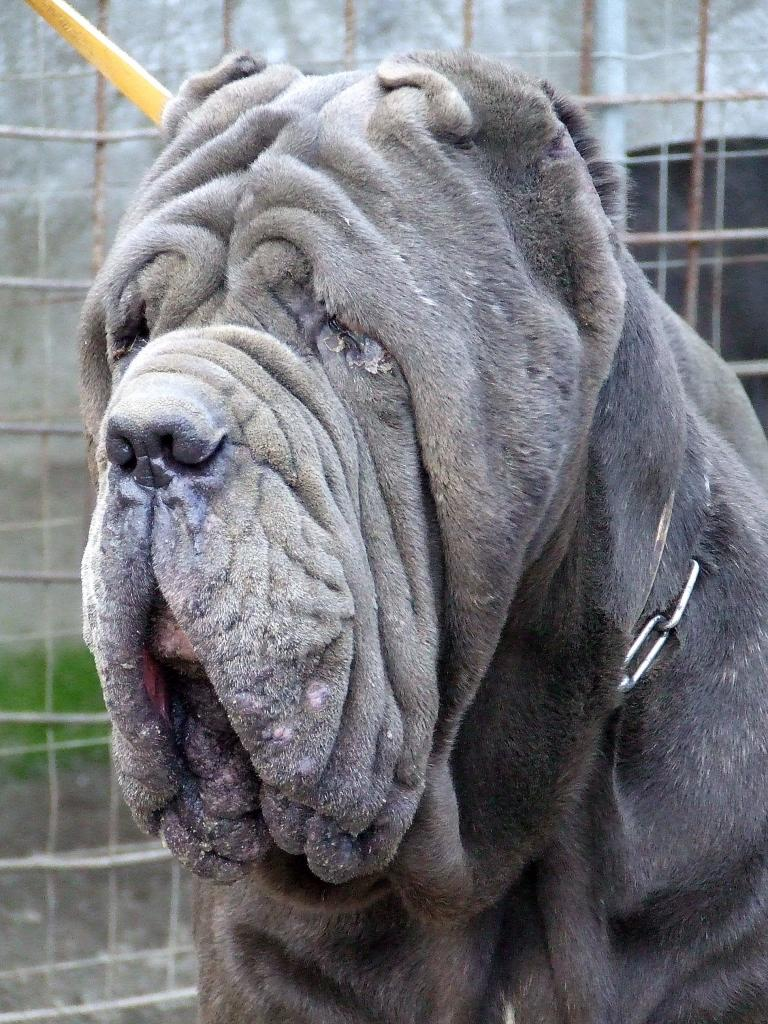neapolitan_mastiff: (72, 44, 767, 1024)
